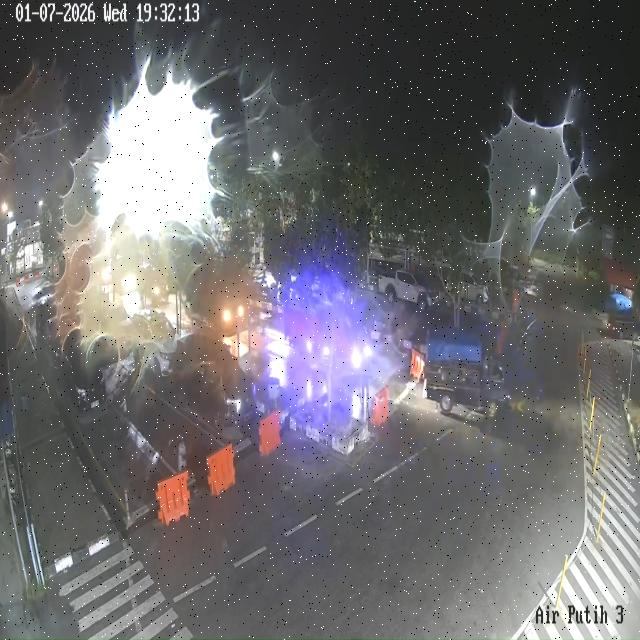Golongan IVA: (60, 329, 106, 413), (131, 309, 176, 351)
Golongan IVB: (421, 329, 510, 418), (378, 270, 439, 311)
